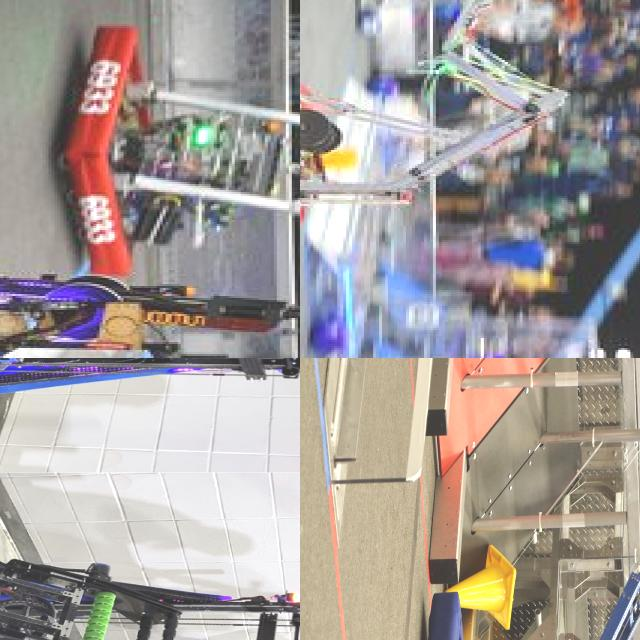FRC-Robots: (300, 0, 635, 252), (37, 12, 300, 276), (425, 358, 640, 640), (0, 496, 300, 640), (0, 243, 300, 358), (0, 358, 300, 464)
